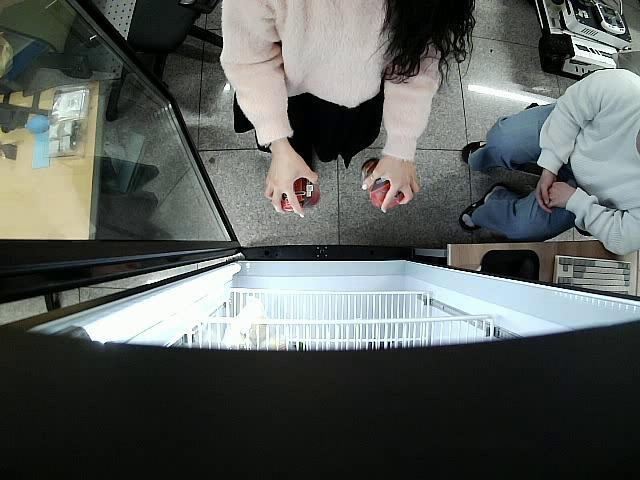02_shinRamen_S: (363, 158, 404, 208), (280, 176, 321, 212)
